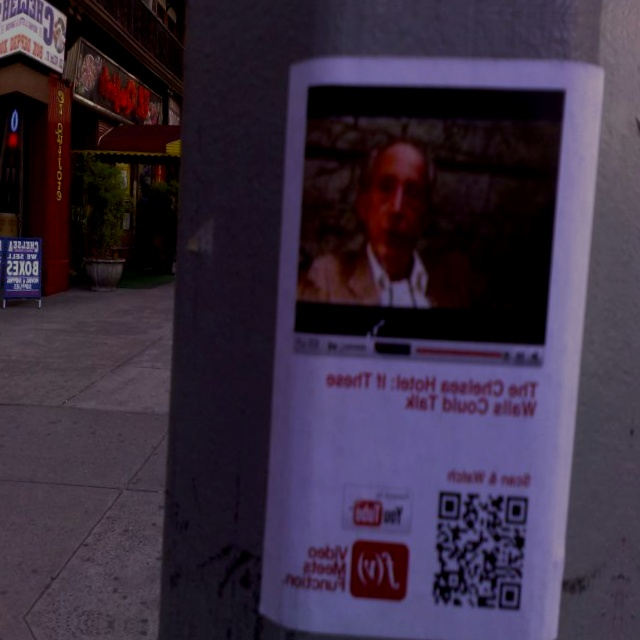qr-code: (431, 492, 528, 610)
